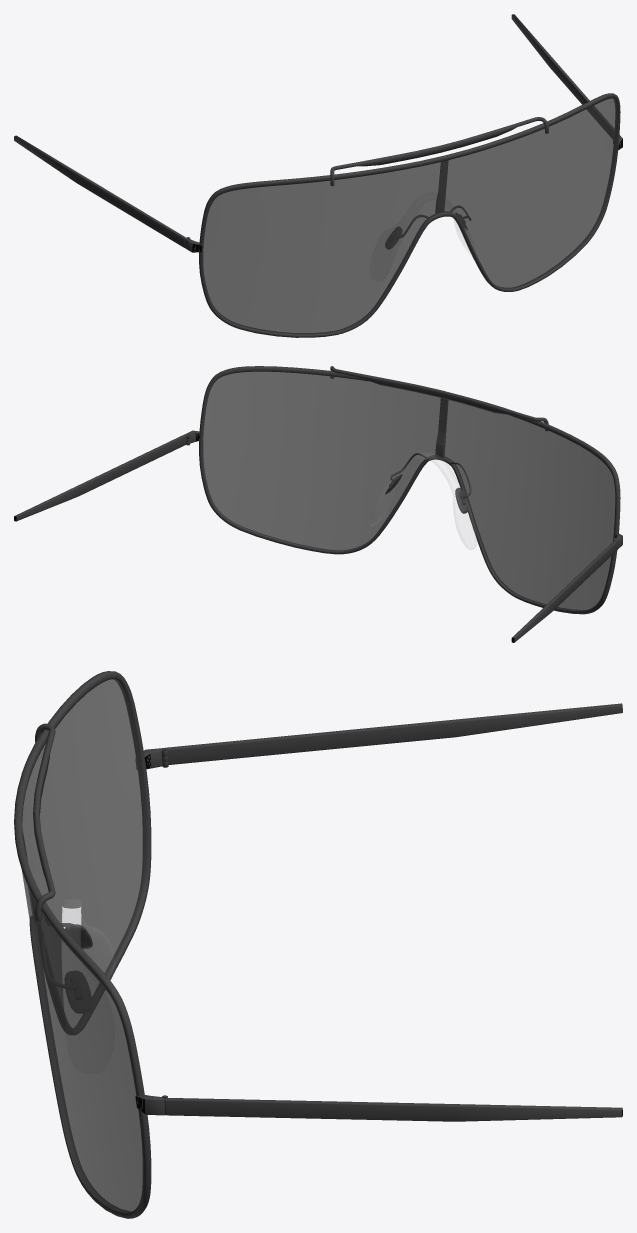
File: glass.gltf
3 views of the same model, one above another, from view 1: azimuth 30°, elevation 25°; view 2: azimuth 150°, elevation 25°; view 3: azimuth 270°, elevation 25° (orthographic). The views are drawn at different scales.
Visible parts, largest first — view 1: lenti, montatura; view 2: lenti, montatura, naselli; view 3: lenti, montatura, naselli.
Boxes of the visible parts, left/top/right/bottom form: lenti: left=203, top=98, right=617, bottom=334; montatura: left=14, top=14, right=622, bottom=337; lenti: left=203, top=371, right=615, bottom=610; montatura: left=14, top=366, right=622, bottom=642; naselli: left=370, top=452, right=476, bottom=549; lenti: left=22, top=679, right=145, bottom=1212; montatura: left=14, top=671, right=622, bottom=1218; naselli: left=62, top=899, right=114, bottom=979.
Size of the model in its own units: 0.1596 by 0.054 by 0.101.
Materials: 3 (1 with a texture image).
